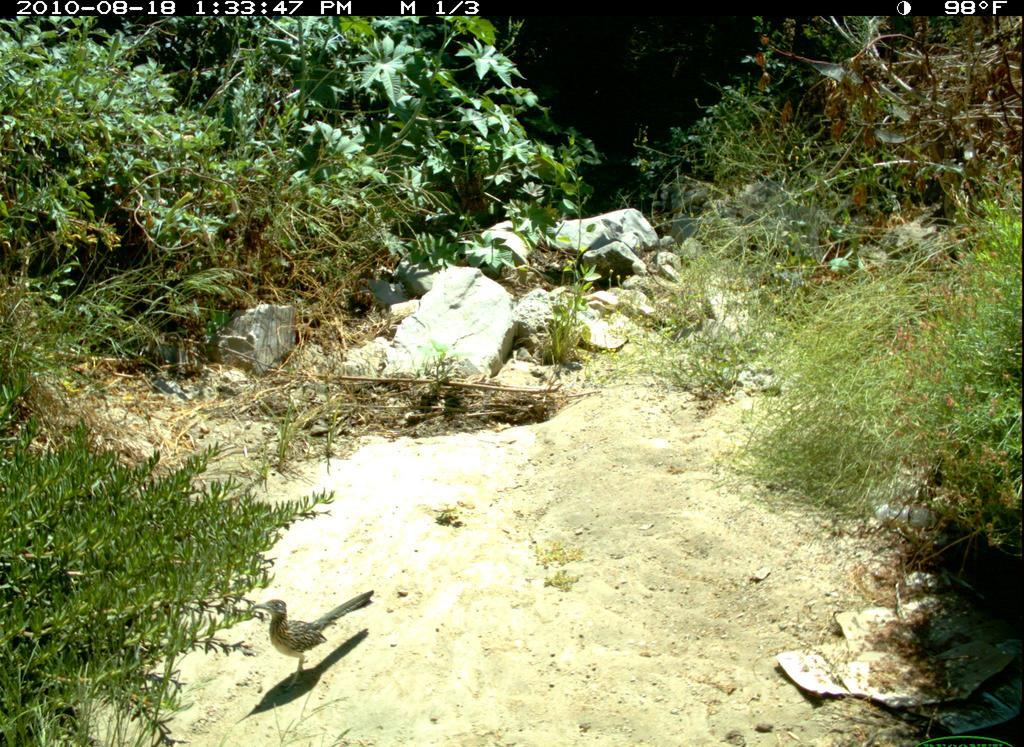bird: (250, 585, 381, 696)
